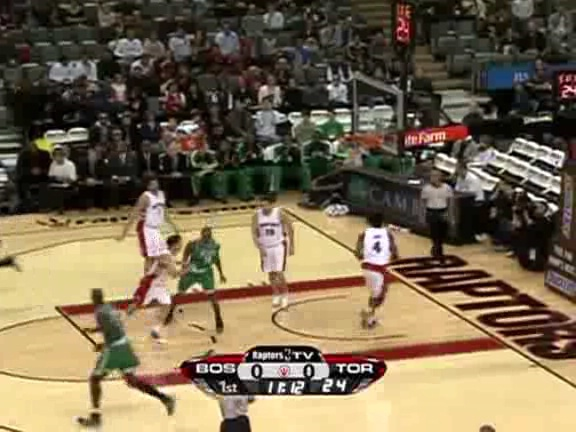person: (186, 224, 220, 305), (185, 224, 219, 305), (187, 224, 221, 305), (186, 223, 220, 304), (186, 225, 220, 306)
target_negative: (292, 69, 413, 291), (364, 319, 553, 427), (411, 283, 549, 390), (517, 299, 567, 413), (22, 388, 304, 396), (513, 228, 562, 241)
